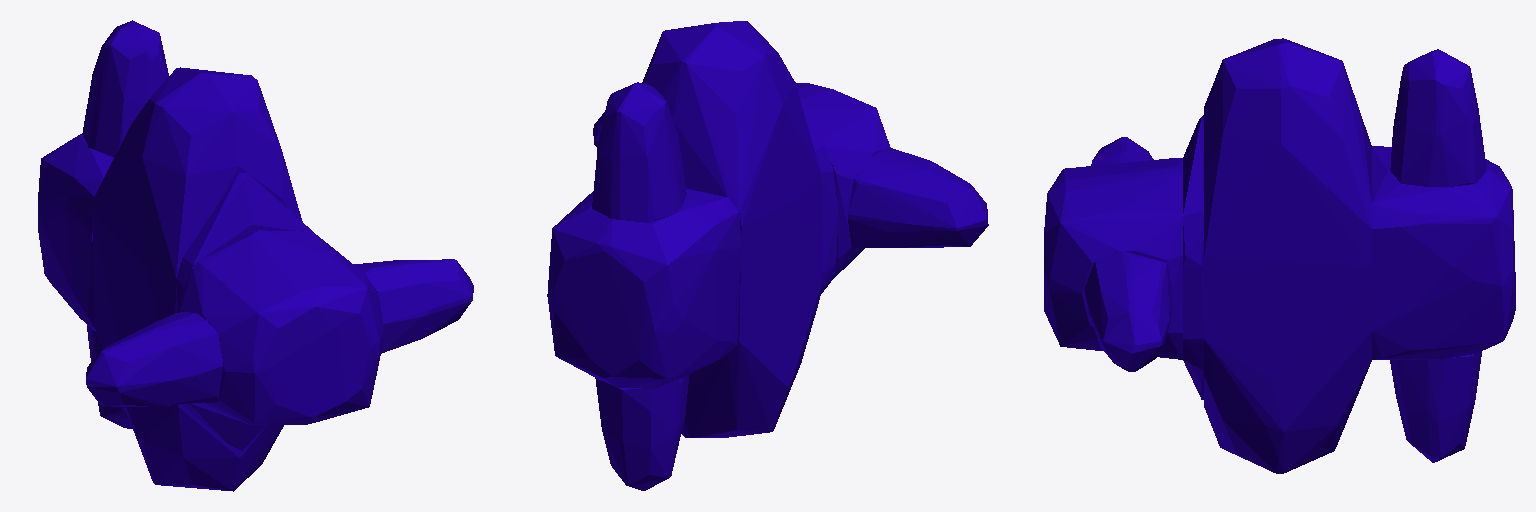
URDF robot description (blob041):
<robot name="blob041">
  <link name="random_obj_041">
    <contact>
      <lateral_friction value="1.0"/>
      <rolling_friction value="0.0"/>
      <inertia_scaling value="3.0"/>
      <contact_cfm value="0.0"/>
      <contact_erp value="1.0"/>
    </contact>
    <inertial>
      <origin rpy="0 0 0" xyz="0 0 0"/>
      <mass value="0.1"/>
      <inertia ixx="1" ixy="0" ixz="0" iyy="1" iyz="0" izz="0"/>
    </inertial>
    <visual>
      <origin rpy="0 0 0" xyz="0 0 0"/>
      <geometry>
        <mesh filename="041.obj" scale="0.015 0.015 0.015"/>
      </geometry>
      <material name="blockmat">
        <color rgba="0.20 0.03 0.71 1"/>
      </material>
    </visual>
    <collision>
      <origin rpy="0 0 0" xyz="0 0 0"/>
      <geometry>
        <mesh filename="041.obj" scale="0.015 0.015 0.015"/>
      </geometry>
    </collision>
  </link>
</robot>

--- Render facts (derived) ---
3 views of the same robot in one strip: view 1: azimuth 30°, elevation 25°; view 2: azimuth 150°, elevation 25°; view 3: azimuth 270°, elevation 25° (orthographic).
Model blob041 with 1 links and 0 joints (none), rooted at random_obj_041, posed every joint at zero.
Links seen in each view (by area): view 1: random_obj_041; view 2: random_obj_041; view 3: random_obj_041.
Link boxes in pixels (x1,y1,x2,y2): random_obj_041: (38,20,473,491); random_obj_041: (547,21,988,490); random_obj_041: (1044,38,1515,473).
Size in the robot's own frame: 0.0905 by 0.092 by 0.091 metres.
1 mesh visuals loaded from 1 distinct referenced files (1 OBJ).